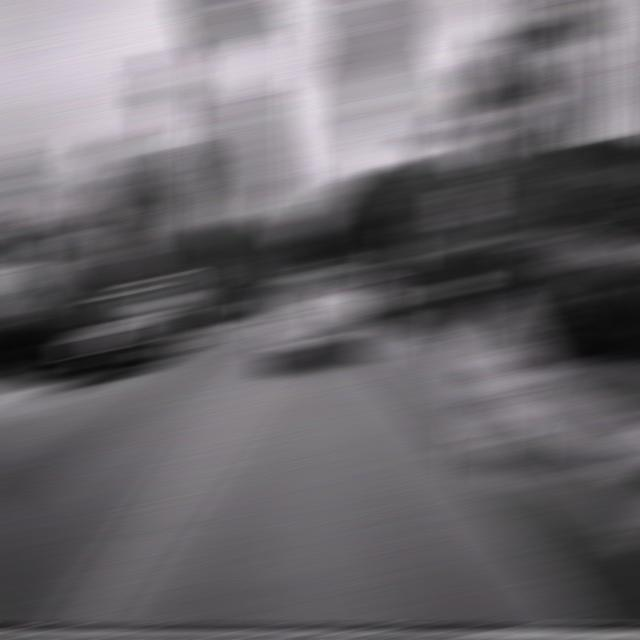speedLimit30: (444, 184, 485, 222)
